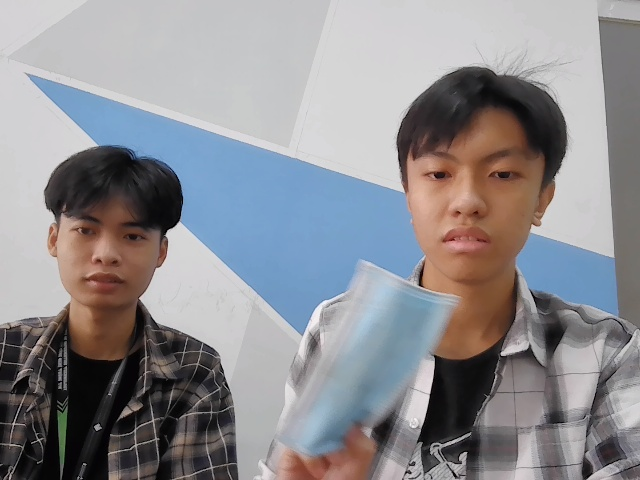human: (395, 66, 574, 280), (47, 141, 183, 311)
mask: (267, 259, 462, 466)
